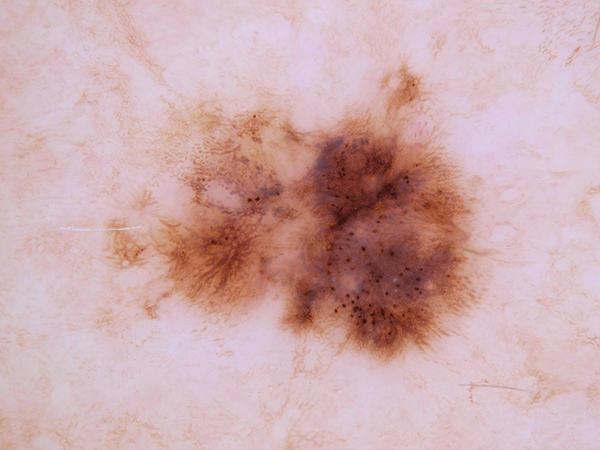Detected Lesion: (141, 92, 483, 367)
